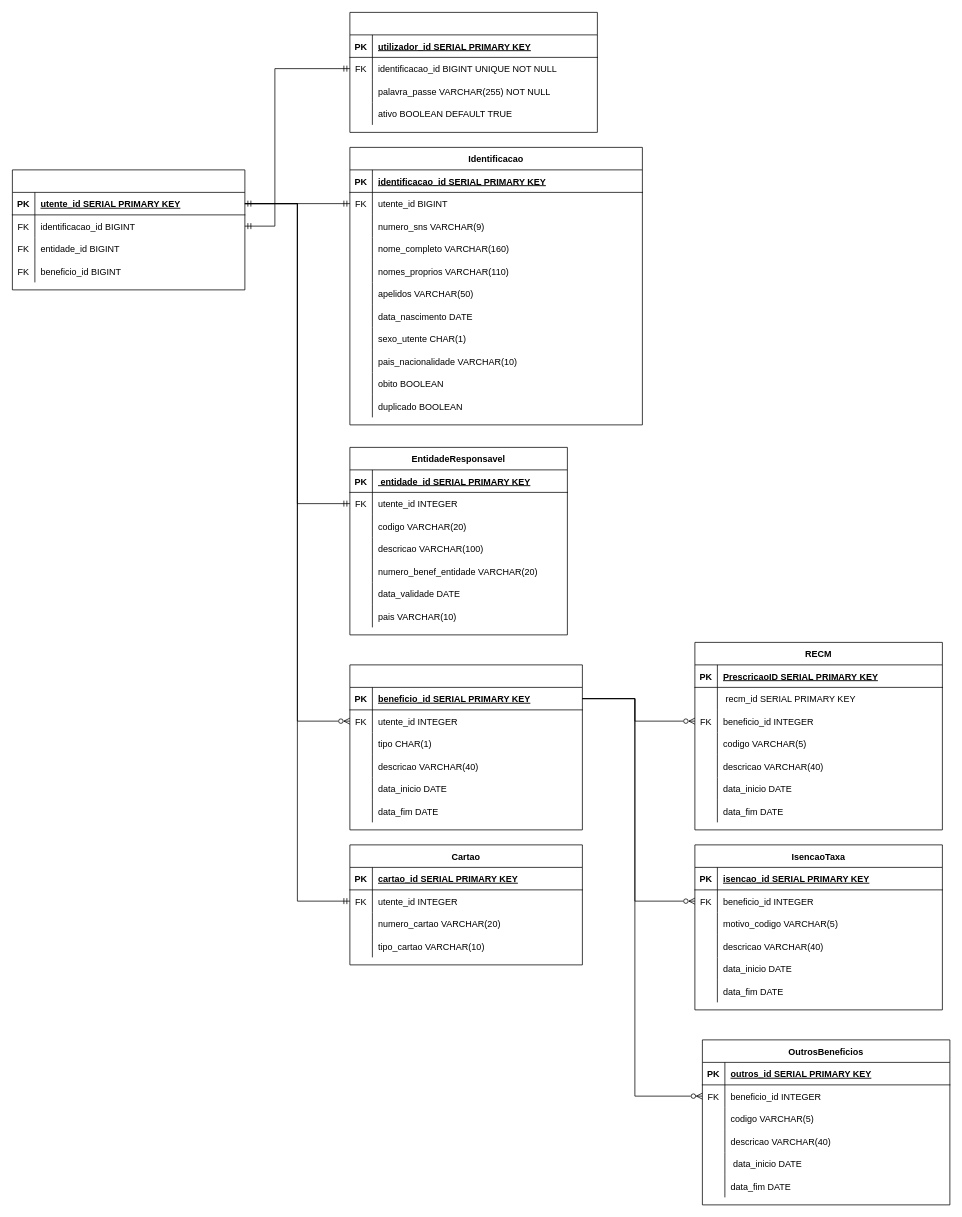
Image size: 962x1217. Some labels were removed from this diagram. The shapes that lost their labels are listed below. From the top down, each one's box as (x1, y1, x2, y2) in pixels, then its label:
(349, 12, 597, 132): Utilizadores
(12, 169, 245, 290): Utentes
(349, 664, 582, 830): Beneficios
